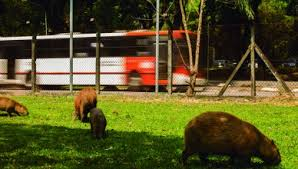capivara: (181, 111, 282, 169), (74, 86, 98, 123), (89, 107, 108, 139), (1, 96, 27, 119)
